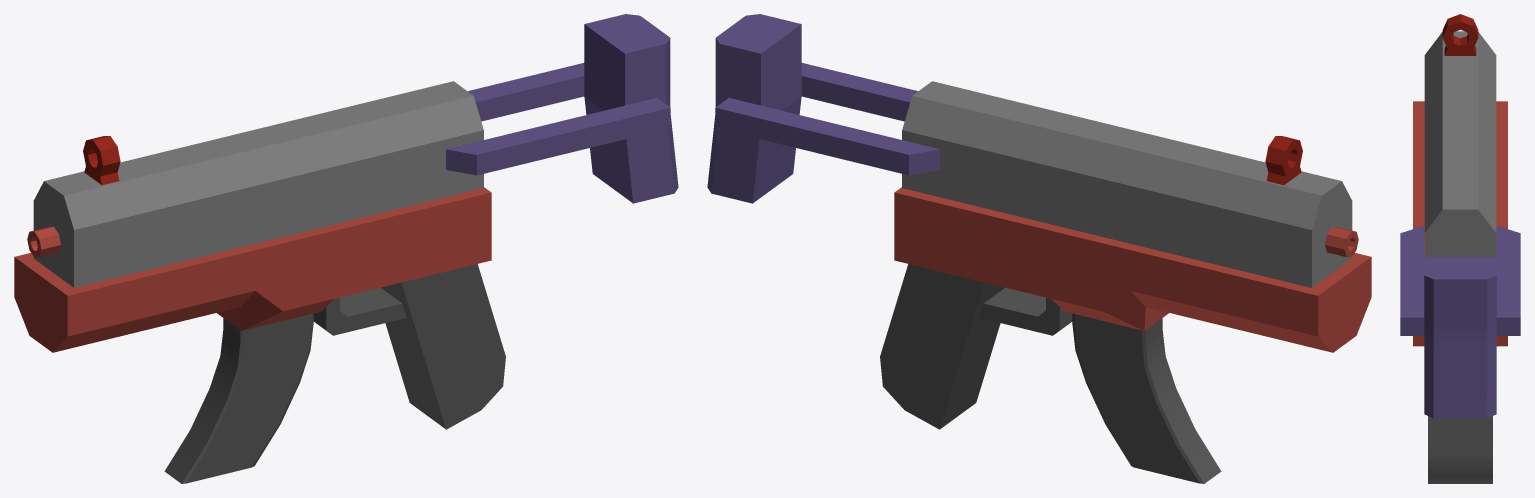
Rendered from SMG.fbx.
3 views of the same model, side by side, from view 1: azimuth 30°, elevation 25°; view 2: azimuth 150°, elevation 25°; view 3: azimuth 270°, elevation 25° (orthographic). The views are drawn at different scales.
Parts seen in each view (by area): view 1: SMG; view 2: SMG; view 3: SMG.
Part boxes in pixels (<box>): SMG: <box>14,14,678,483</box>; SMG: <box>707,14,1371,483</box>; SMG: <box>1400,14,1520,483</box>.
Size of the model in its own units: 8.61 by 4.68 by 1.6.
